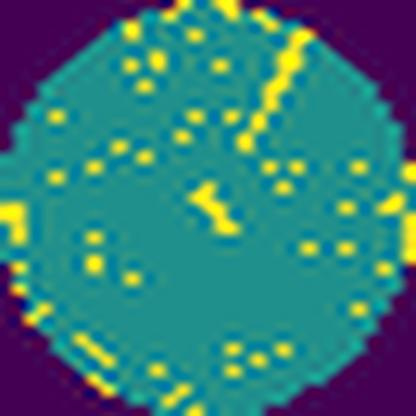Scratch: (230, 26, 314, 159), (181, 178, 246, 241)
